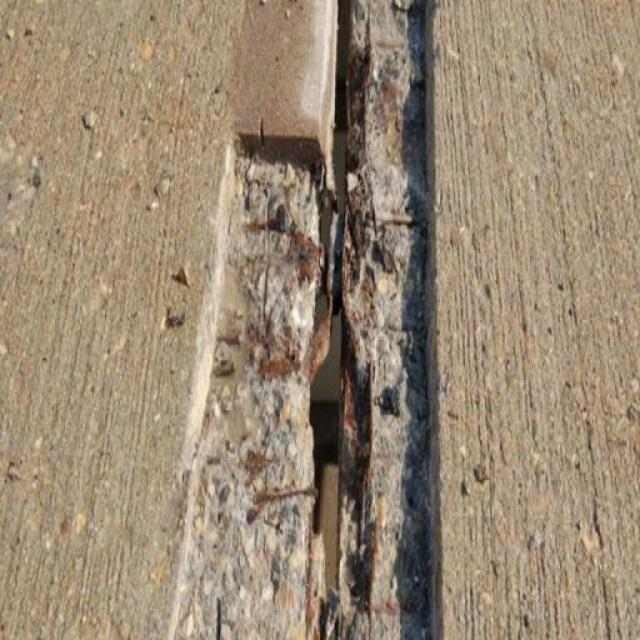D10: (174, 0, 435, 639)
